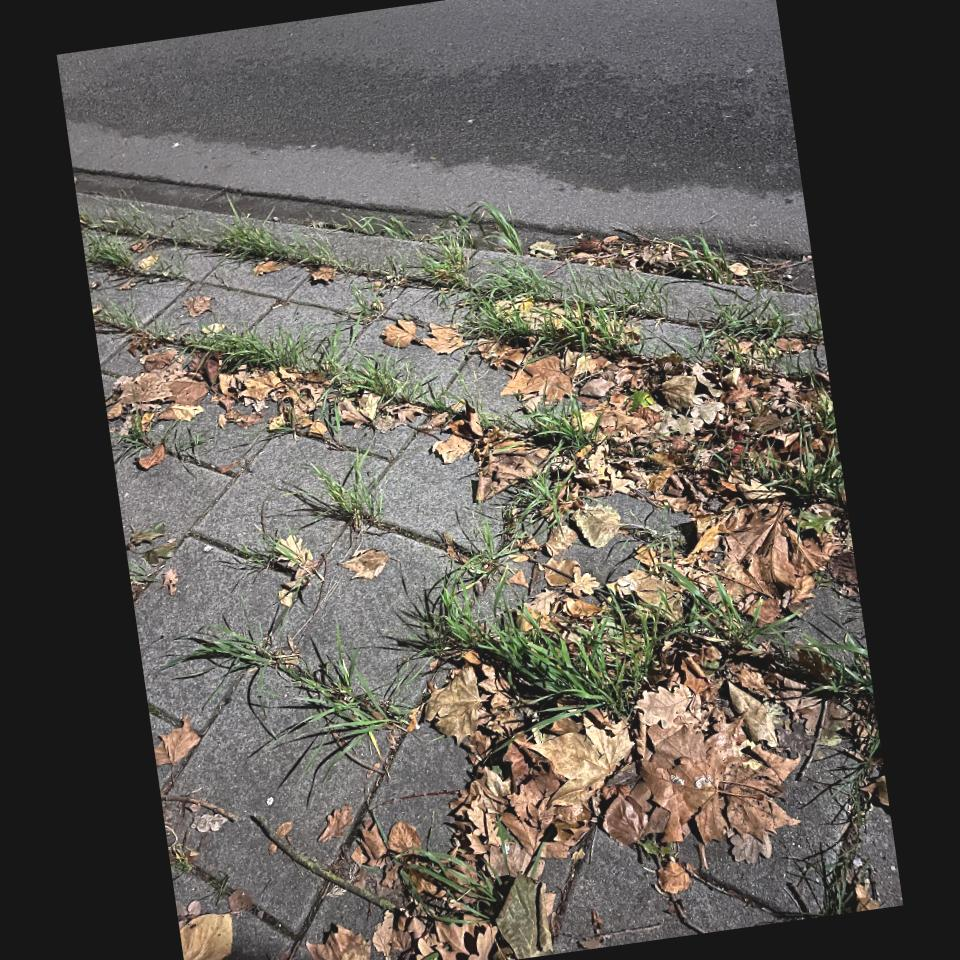weed: (440, 591, 726, 720), (162, 624, 411, 754), (666, 566, 797, 650), (470, 286, 633, 353), (744, 395, 845, 502), (472, 264, 669, 318), (807, 635, 881, 748), (396, 848, 505, 921), (296, 455, 382, 529), (213, 212, 333, 264), (186, 328, 319, 371), (336, 355, 428, 409), (670, 236, 749, 283), (83, 232, 161, 276), (713, 302, 790, 342), (421, 234, 472, 286)
